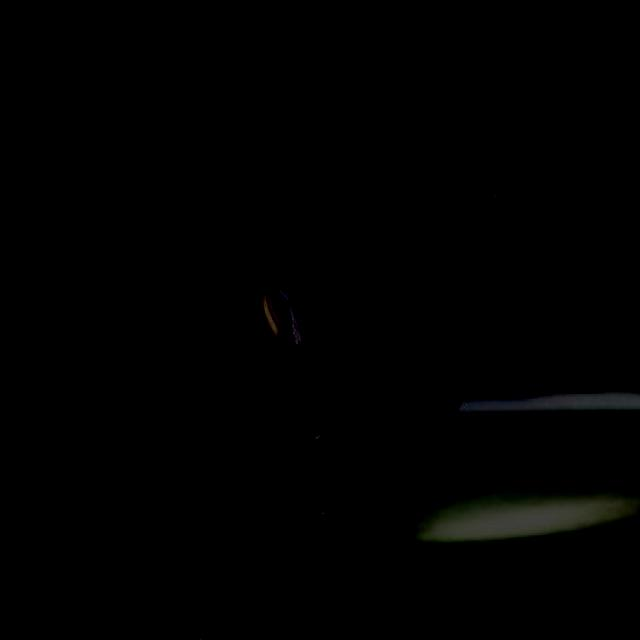Motorbike: (60, 152, 483, 564)
